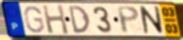3: (93, 6, 113, 34)
D: (67, 5, 92, 35)
G: (23, 5, 46, 35)
H: (41, 4, 71, 36)
N: (139, 5, 165, 35)
P: (116, 5, 141, 35)
